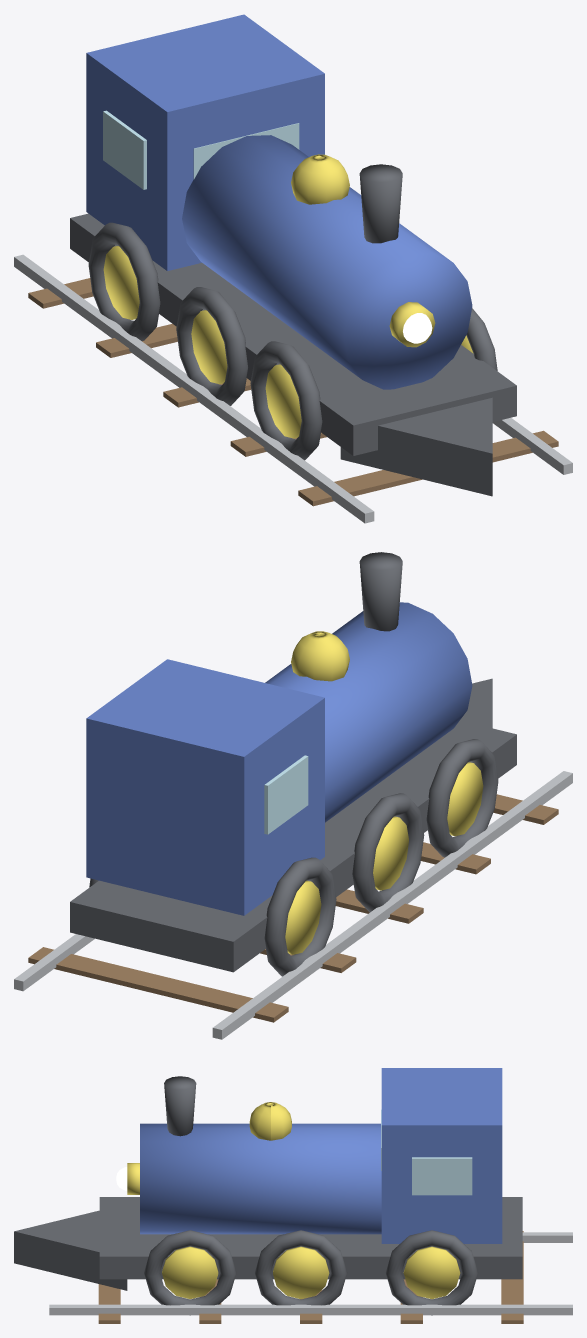
File: 12398846-f2e5-4013-b927-7530cce8fc08.glb
3 views of the same model, one above another, from view 1: azimuth 30°, elevation 25°; view 2: azimuth 150°, elevation 25°; view 3: azimuth 270°, elevation 25° (orthographic). The views are drawn at different scales.
Visible parts, largest first — view 1: Generated3DMesh; view 2: Generated3DMesh; view 3: Generated3DMesh.
Boxes of the visible parts, bbox=[...] form: Generated3DMesh: bbox=[14, 14, 572, 523]; Generated3DMesh: bbox=[14, 552, 572, 1039]; Generated3DMesh: bbox=[14, 1068, 572, 1323].
Size of the model in its own units: 2.1 by 2.19 by 5.55.
